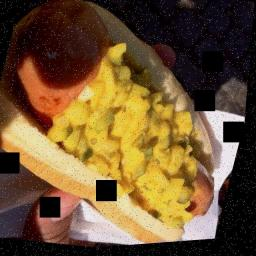hotdog: (0, 0, 144, 146), (128, 141, 228, 232)
